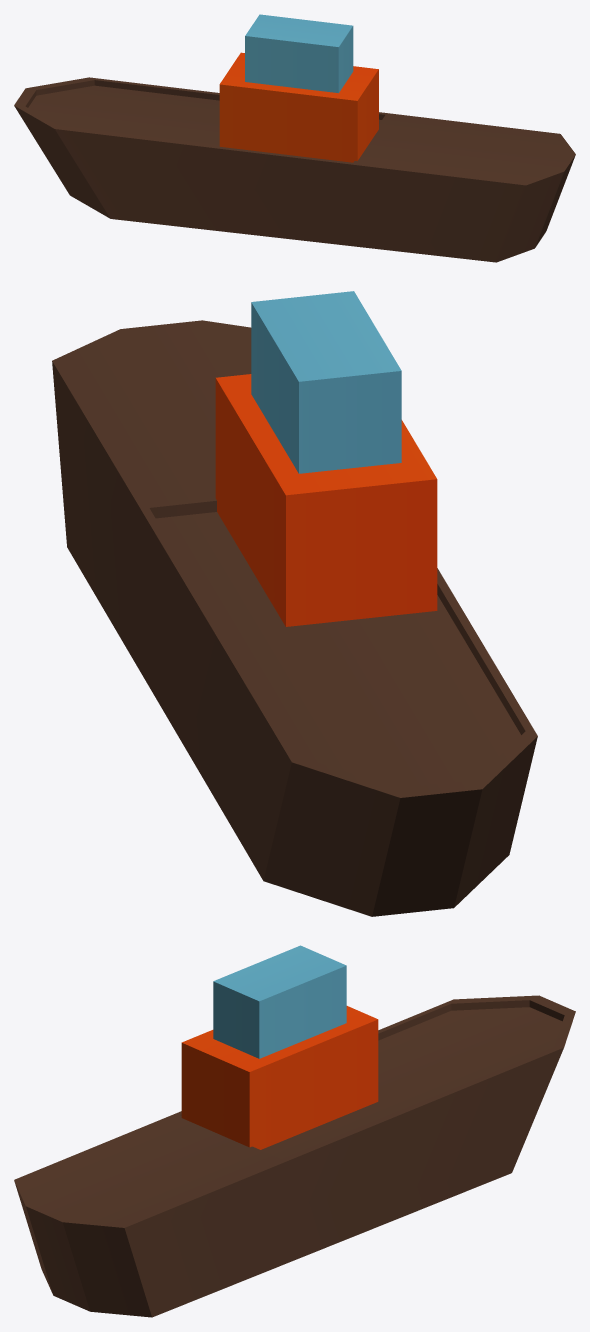
Rendered from boat 1.fbx.
3 views of the same model, one above another, from view 1: azimuth 30°, elevation 25°; view 2: azimuth 150°, elevation 25°; view 3: azimuth 270°, elevation 25° (orthographic). The views are drawn at different scales.
Parts seen in each view (by area): view 1: Cube.539; view 2: Cube.539; view 3: Cube.539.
Boxes of the visible parts, x1=… form: Cube.539: x1=14, y1=14, x2=575, y2=262; Cube.539: x1=52, y1=291, x2=537, y2=916; Cube.539: x1=14, y1=945, x2=575, y2=1317.
Bounding box in the file's own units: 23.23 × 11.04 × 23.73.
Materials: 1 (1 with a texture image).
